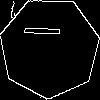I: (24, 23, 69, 39)
